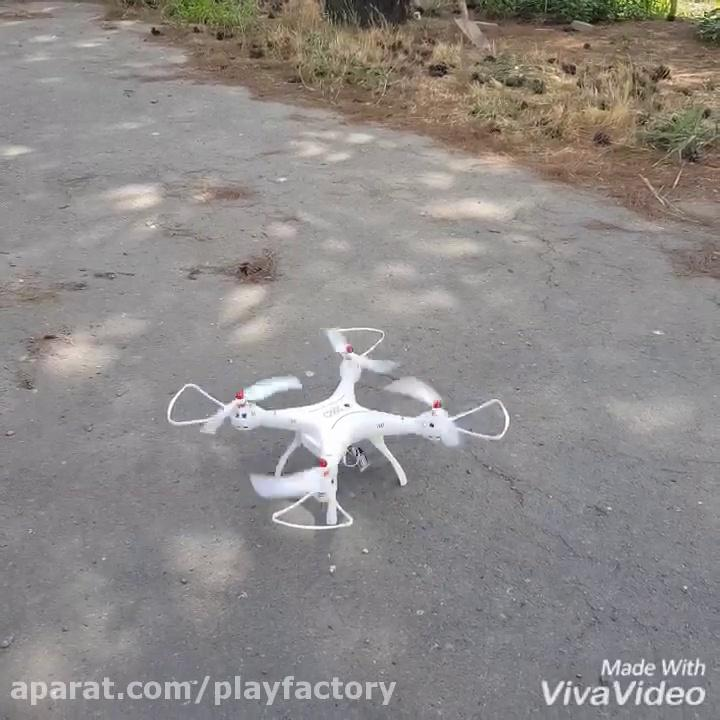drone: (162, 321, 513, 532)
